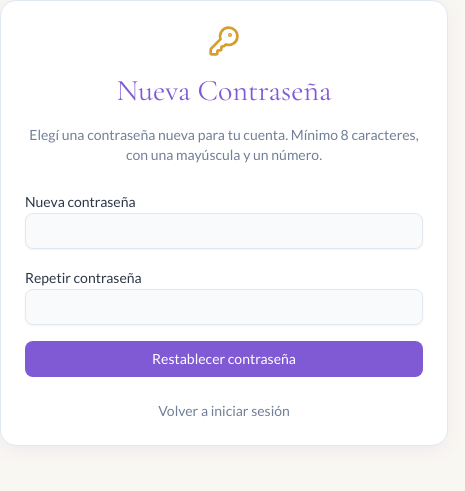
Test: ResetPasswordForm › Validación › should reject a password shorter than 8 characters
The image size is (465, 491).
Step 1. Type "Corta1" into the password field labelled "Nueva contraseña" → (224, 231), box [25,213,423,249]
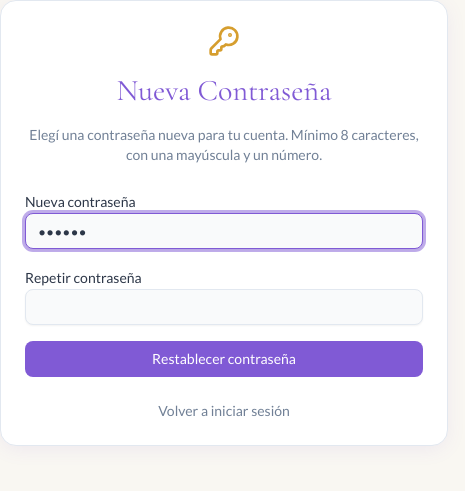
Step 2. Type "Corta1" into the password field labelled "Repetir contraseña" → (224, 307), box [25,289,423,325]
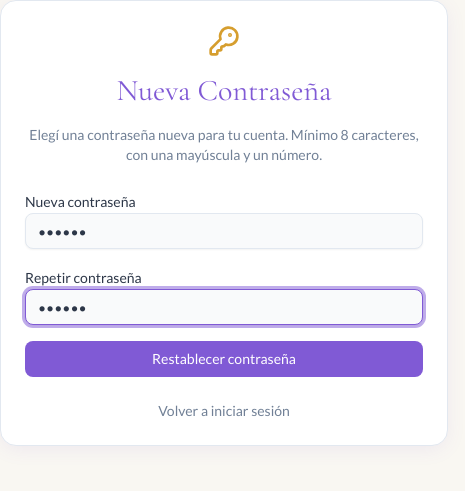
Step 3. Click the button "Restablecer contraseña" → (224, 359), box [25,341,423,377]
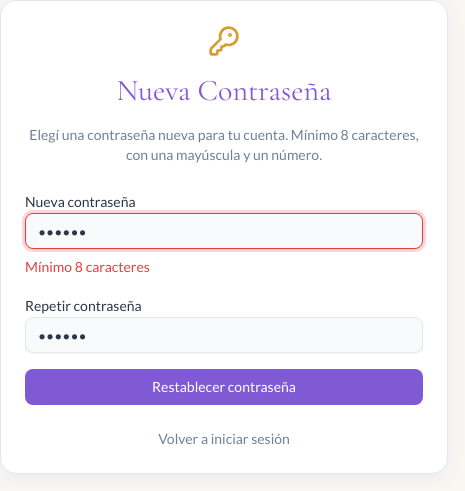
Now the text "Mínimo 8 caracteres" is shown, box [25,258,150,275]
